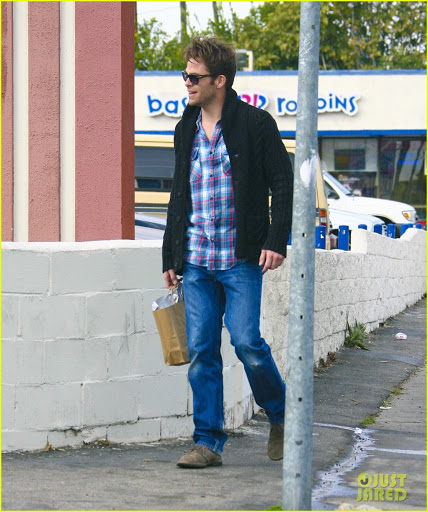Person: (163, 35, 293, 470)
